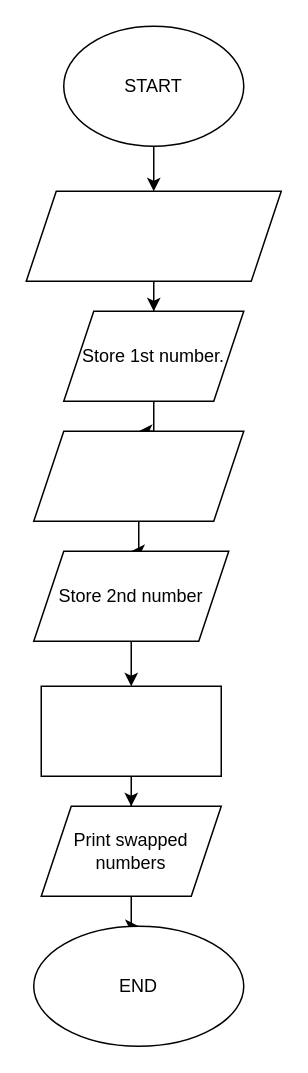
This 308x1073 diagram has some shape labels left out. The shapes that lost their labels are listed below. From the top down, each one's centre as x and y in pixels, then its label:
At point (153, 235): "Request input 1st number".
At point (138, 475): "Request input 2nd number".
At point (130, 730): "XOR swap values".
